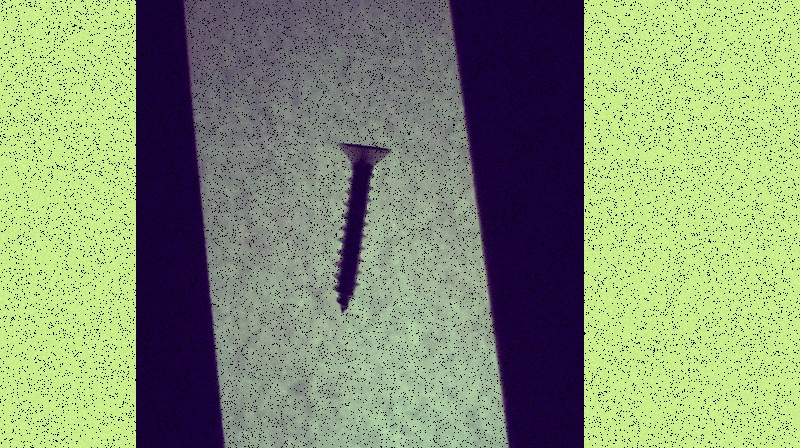S001: (326, 139, 395, 317)
